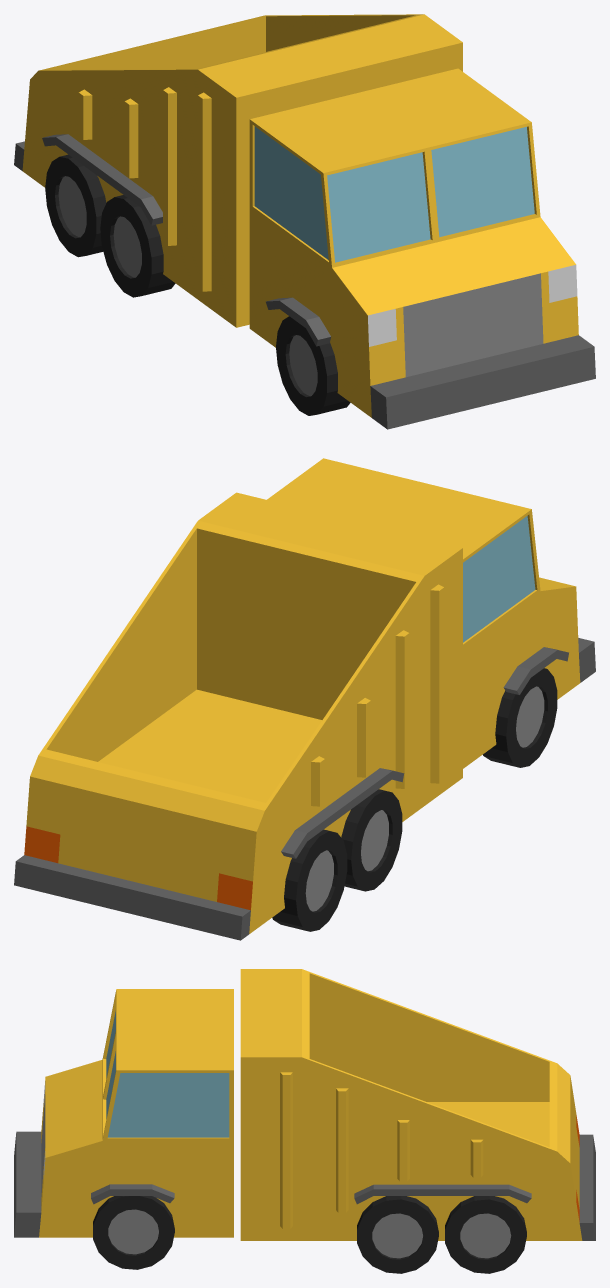
File: trash_truck.glb
3 renders of one model, top to bottom at view 1: azimuth 30°, elevation 25°; view 2: azimuth 150°, elevation 25°; view 3: azimuth 270°, elevation 25°, orthographic. The views are drawn at different scales.
Parts seen in each view (by area): view 1: yellow_big_truck; view 2: yellow_big_truck; view 3: yellow_big_truck.
Part boxes in pixels (x1,y1,x2,y2): yellow_big_truck: (14, 14, 595, 429); yellow_big_truck: (14, 458, 595, 940); yellow_big_truck: (14, 969, 595, 1273).
Size of the model in its own units: 2.5 by 2.53 by 6.29.
